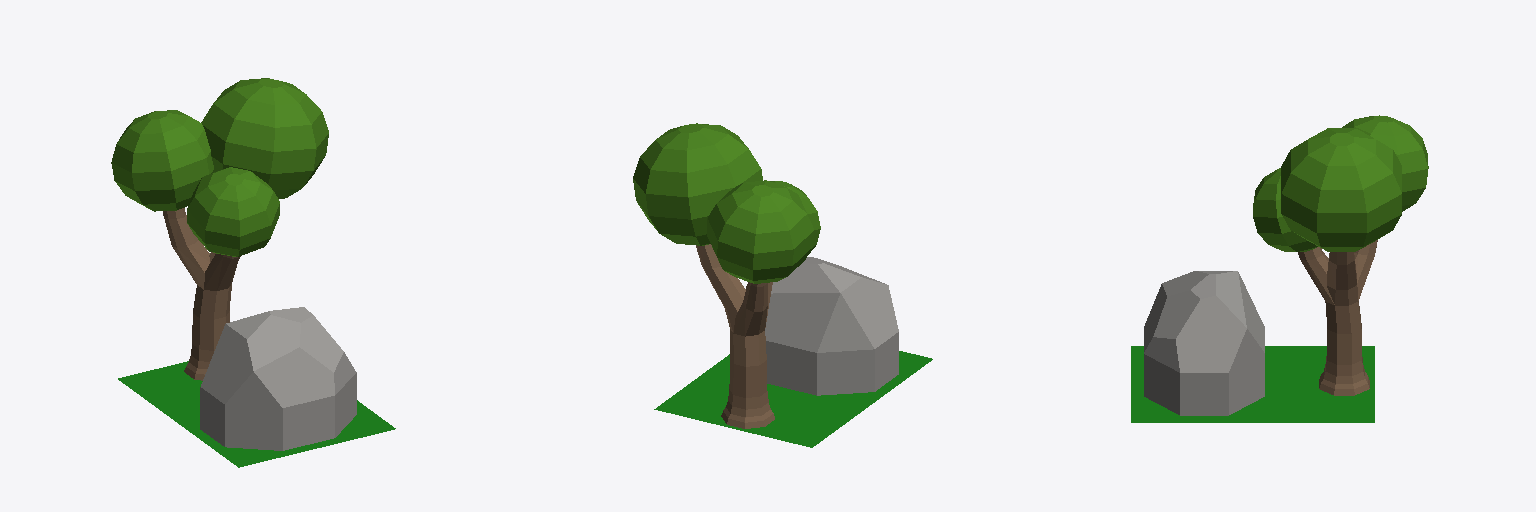
The model's file is tree_and_rock.obj.
The picture shows the model from 3 angles: view 1: azimuth 30°, elevation 25°; view 2: azimuth 150°, elevation 25°; view 3: azimuth 270°, elevation 25°; orthographic projection.
Visible parts, largest first — view 1: mergedBlocks; view 2: mergedBlocks; view 3: mergedBlocks.
Part boxes in pixels (bbox=[...]): mergedBlocks: bbox=[111, 78, 395, 467]; mergedBlocks: bbox=[633, 123, 932, 447]; mergedBlocks: bbox=[1131, 115, 1428, 422].
Size of the model in its own units: 3.48 by 5.1 by 4.88.